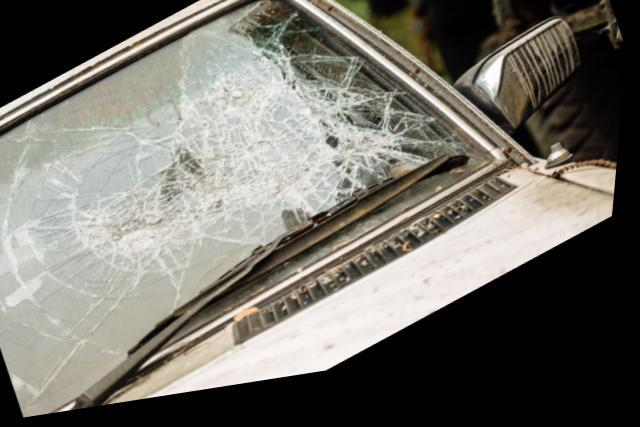glass shatter: (0, 5, 489, 419)
